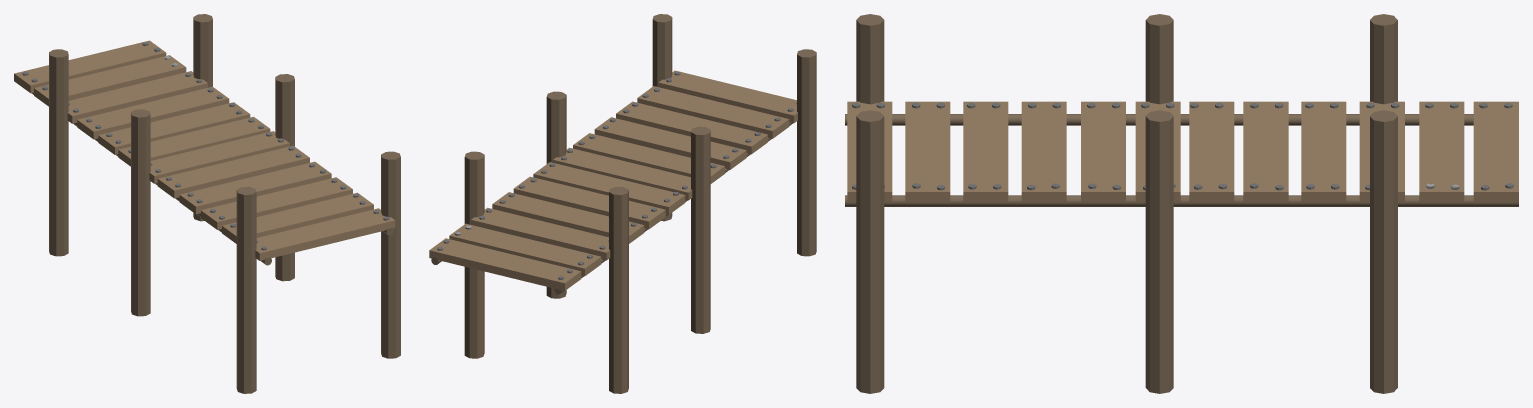
Rendered from BRIDGE.fbx.
The picture shows the model from 3 angles, left to right: view 1: azimuth 30°, elevation 25°; view 2: azimuth 150°, elevation 25°; view 3: azimuth 270°, elevation 25°; orthographic projection. The views are drawn at different scales.
Parts seen in each view (by area): view 1: polySurface48, pCylinder27, polySurface58; view 2: polySurface48, pCylinder27, polySurface58; view 3: polySurface48, pCylinder27, polySurface11, polySurface58.
Boxes of the visible parts, <box> form: polySurface48: <box>14,40,395,260</box>; pCylinder27: <box>49,14,400,393</box>; polySurface58: <box>22,42,389,250</box>; polySurface48: <box>429,70,797,290</box>; pCylinder27: <box>464,14,816,393</box>; polySurface58: <box>437,71,796,279</box>; polySurface48: <box>847,101,1518,202</box>; pCylinder27: <box>856,14,1397,393</box>; polySurface11: <box>845,114,1518,206</box>; polySurface58: <box>852,103,1513,190</box>.
Bounding box in the file's own units: 4.22 × 4.95 × 11.12.
